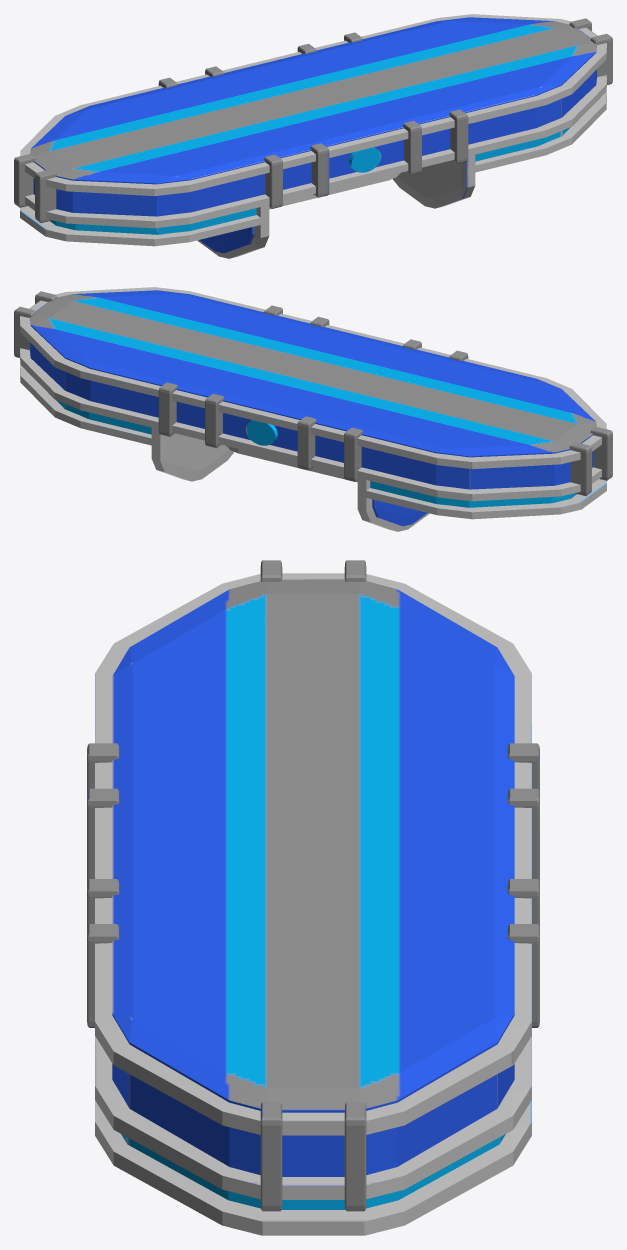
File: Plataforma.obj
3 renders of one model, top to bottom at view 1: azimuth 30°, elevation 25°; view 2: azimuth 150°, elevation 25°; view 3: azimuth 270°, elevation 25°, orthographic. The views are drawn at different scales.
Parts seen in each view (by area): view 1: pisa_plat_central_Cube; view 2: pisa_plat_central_Cube; view 3: pisa_plat_central_Cube.
Part boxes in pixels (<box>): pisa_plat_central_Cube: <box>14,14,612,258</box>; pisa_plat_central_Cube: <box>14,287,612,531</box>; pisa_plat_central_Cube: <box>87,560,539,1235</box>.
Size of the model in its own units: 31.49 by 6.5 by 10.78.
Materials: 1 (1 with a texture image).
